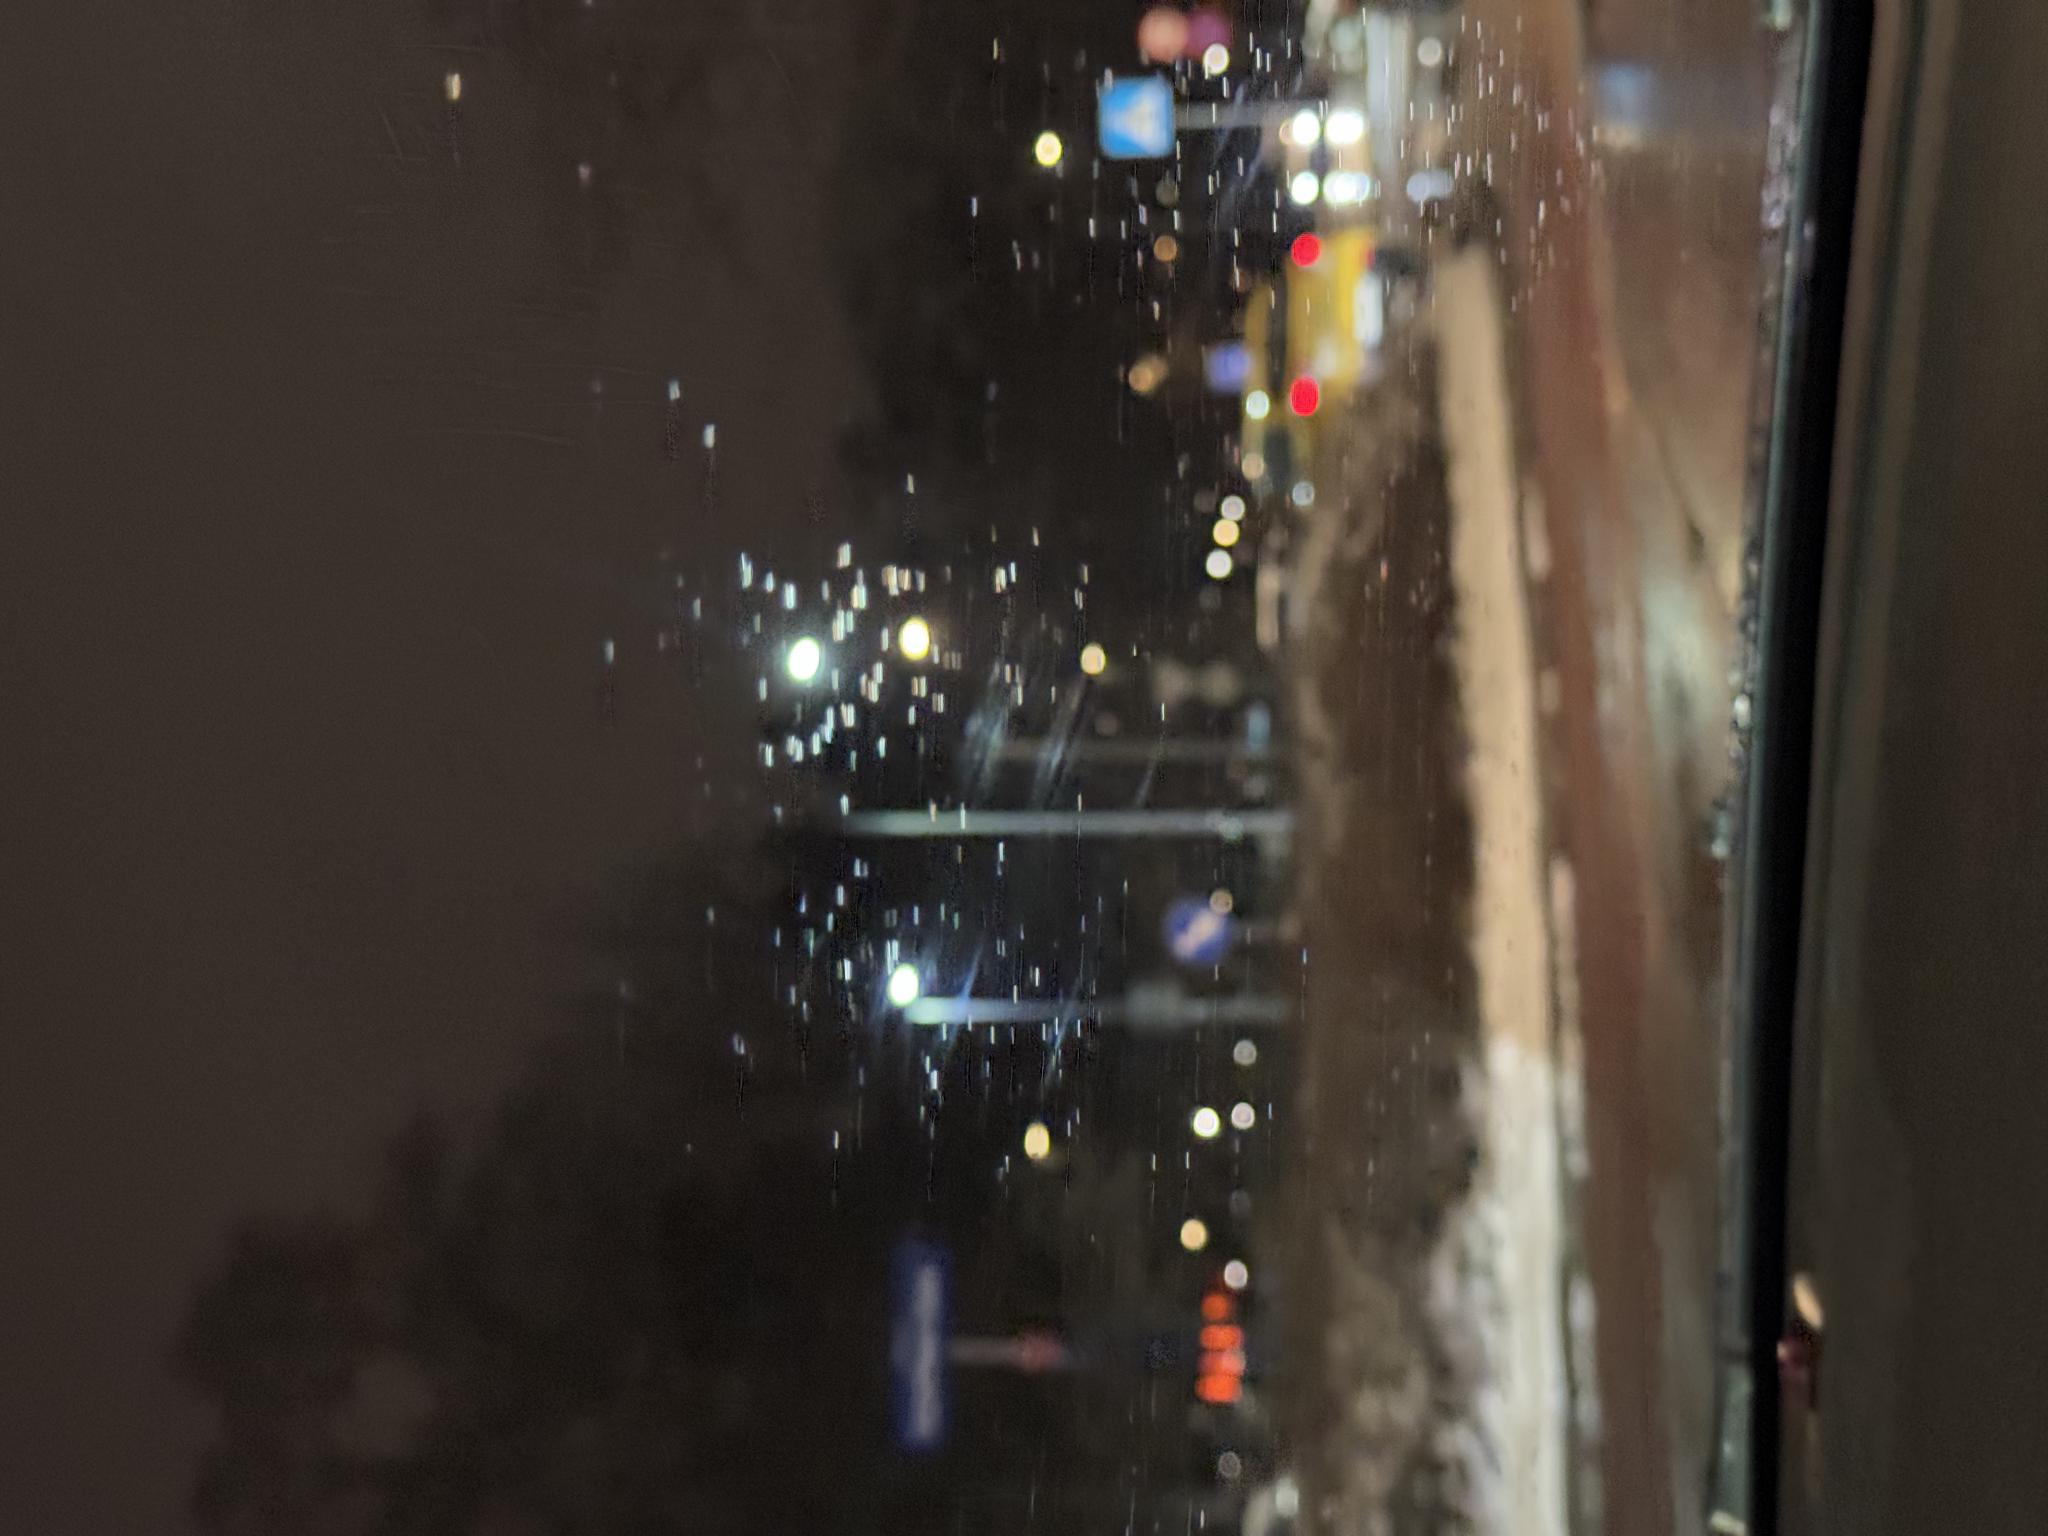information: (1374, 1099, 1458, 1176)
